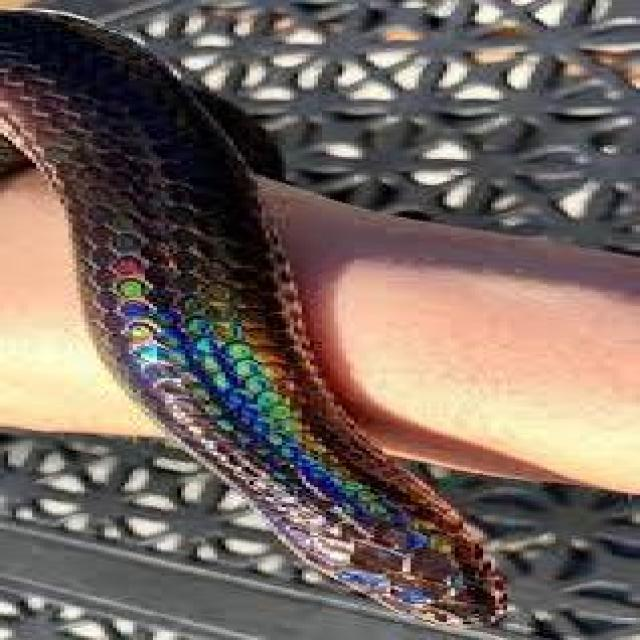Non-Venomous: (77, 291, 544, 618)
